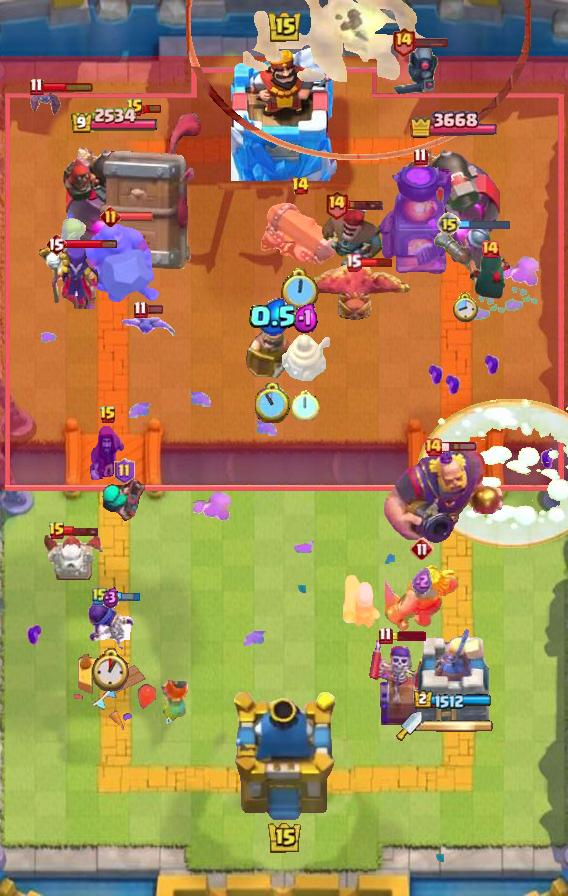archer-queen: (81, 221, 163, 305)
axe: (37, 243, 101, 309)
bar: (414, 623, 492, 731)
barbarian: (119, 313, 177, 341)
barbarian-barrel: (29, 89, 63, 117)
battle-healer: (260, 197, 340, 269)
battle-ram: (391, 44, 441, 98)
bomb-tower: (433, 226, 495, 280)
bowler: (87, 425, 129, 485)
dart-goblin: (99, 113, 203, 272)
earthquake: (246, 312, 300, 380)
electro-spirit: (249, 298, 298, 336), (292, 303, 320, 334), (412, 568, 432, 594), (103, 588, 119, 609)
elixir: (90, 648, 132, 692), (280, 268, 320, 313), (255, 383, 291, 423), (292, 389, 320, 421), (450, 291, 477, 322)
emote: (41, 81, 94, 93), (459, 218, 511, 230), (66, 238, 119, 249), (347, 199, 384, 211), (441, 441, 478, 453), (413, 36, 449, 48), (64, 525, 100, 537), (118, 210, 154, 221), (106, 591, 142, 602), (359, 257, 393, 268), (390, 631, 426, 641), (142, 103, 162, 114), (145, 304, 164, 315)
goblin-ball: (85, 600, 137, 654)
goblin-drill: (282, 333, 330, 381)
goblin-hut: (385, 563, 460, 634)
hog-rider: (155, 675, 193, 727)
hunter: (376, 167, 464, 277)
king-tower: (227, 692, 341, 826), (231, 43, 337, 181)
king-tower-bar: (422, 719, 494, 733)
lightning: (382, 447, 506, 545)
mini-pekka: (41, 532, 105, 580)
mother-witch: (305, 259, 419, 325)
phoenix-big: (416, 399, 567, 549)
phoenix-small: (319, 201, 385, 281)
royal-ghost: (186, 0, 531, 160)
selected: (409, 108, 497, 142), (69, 107, 158, 135), (414, 690, 494, 710)
skeleton-king-bar: (368, 637, 430, 729)
tesla: (467, 248, 513, 302)
text: (323, 189, 348, 220), (392, 27, 417, 57), (437, 212, 461, 236), (410, 537, 434, 561), (114, 458, 135, 484), (45, 232, 67, 256), (99, 205, 121, 226), (290, 176, 310, 196), (480, 239, 500, 259), (423, 437, 443, 457), (126, 98, 144, 118), (99, 405, 117, 425), (48, 521, 66, 541), (345, 253, 362, 272), (92, 586, 108, 606), (378, 626, 393, 645), (28, 77, 43, 95), (413, 147, 428, 165), (133, 301, 147, 319)
tombstone: (341, 572, 383, 630)
tower-bar: (63, 136, 165, 256), (402, 136, 504, 256)
witch: (101, 478, 147, 524)
zap: (55, 209, 97, 267)
